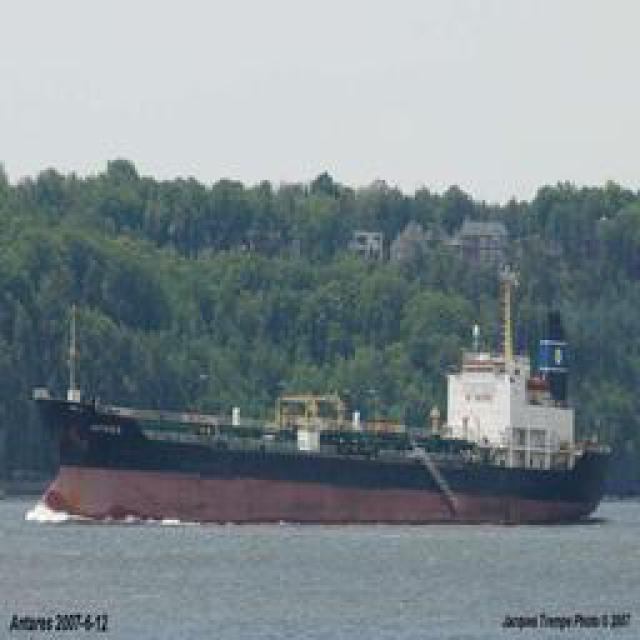Ship: (18, 384, 626, 534)
